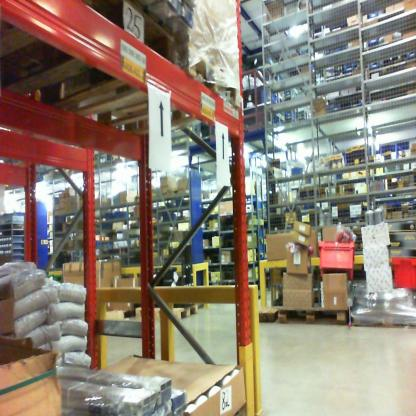pallet: (47, 37, 242, 149), (1, 3, 178, 123), (279, 301, 354, 328), (134, 305, 199, 321), (253, 300, 282, 326), (102, 305, 134, 323)
small_load_carrier: (317, 235, 363, 279), (385, 253, 416, 292)
